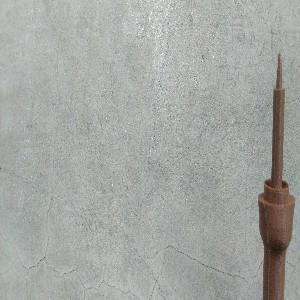solder: (258, 51, 296, 300)
